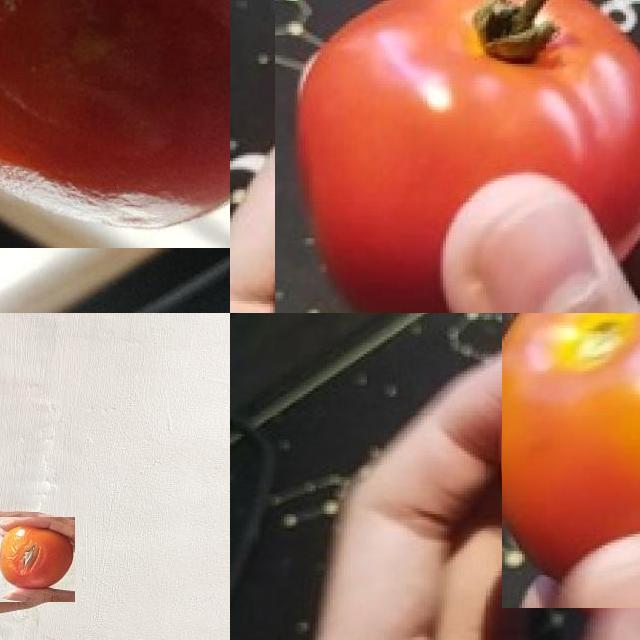1: (0, 0, 230, 250)
Fresh Tomato: (275, 0, 640, 313), (502, 313, 640, 577)
Rotten Tomato: (0, 517, 75, 602)
